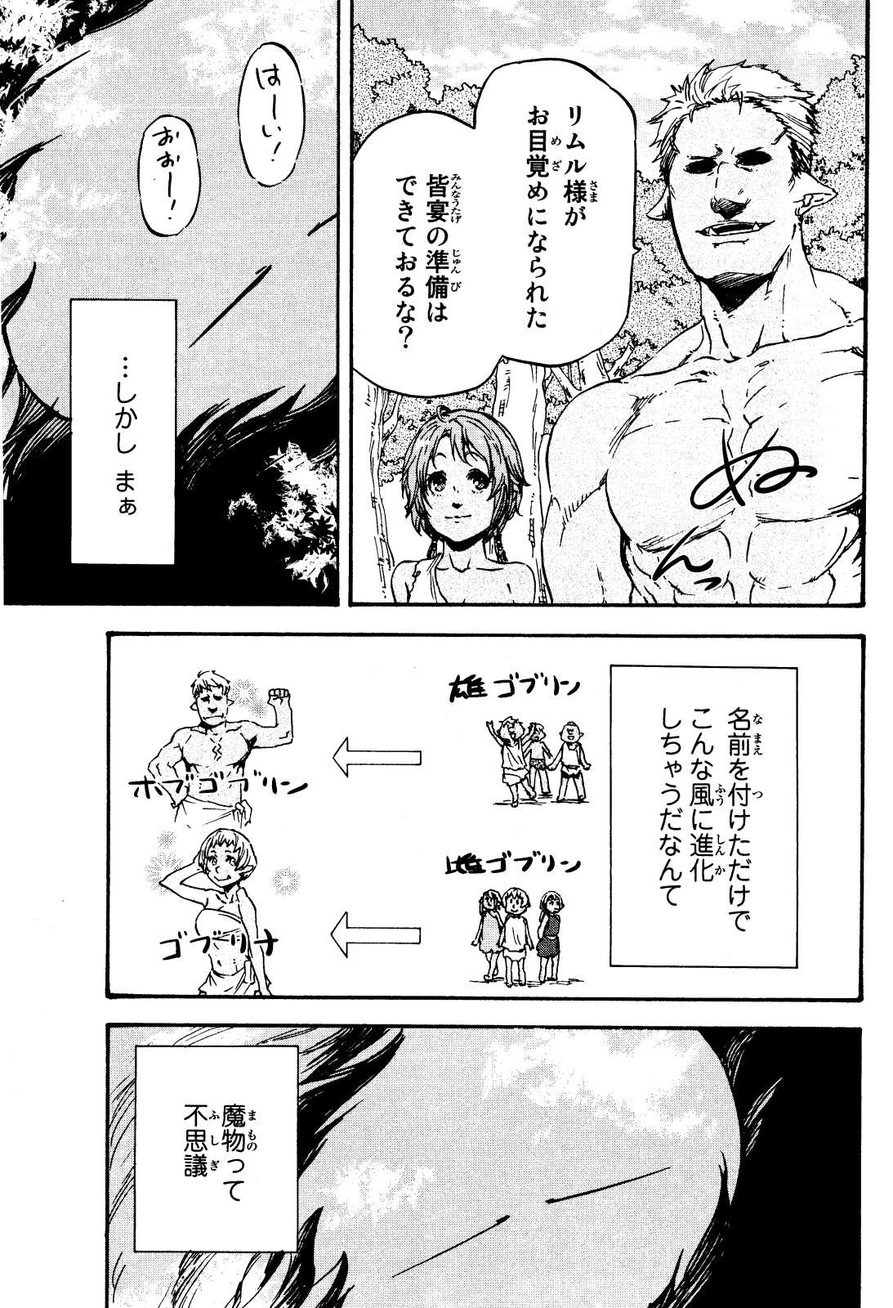bubbles: (351, 51, 641, 401), (605, 659, 803, 974), (128, 1039, 308, 1261), (65, 292, 185, 572), (229, 37, 309, 194), (132, 107, 206, 246)
